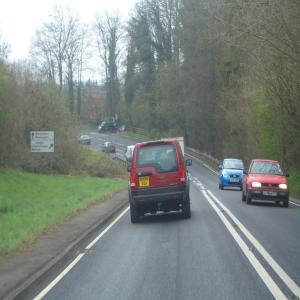Vehicle-registration-plate: (264, 191, 279, 198), (141, 178, 150, 187), (231, 180, 241, 184)
